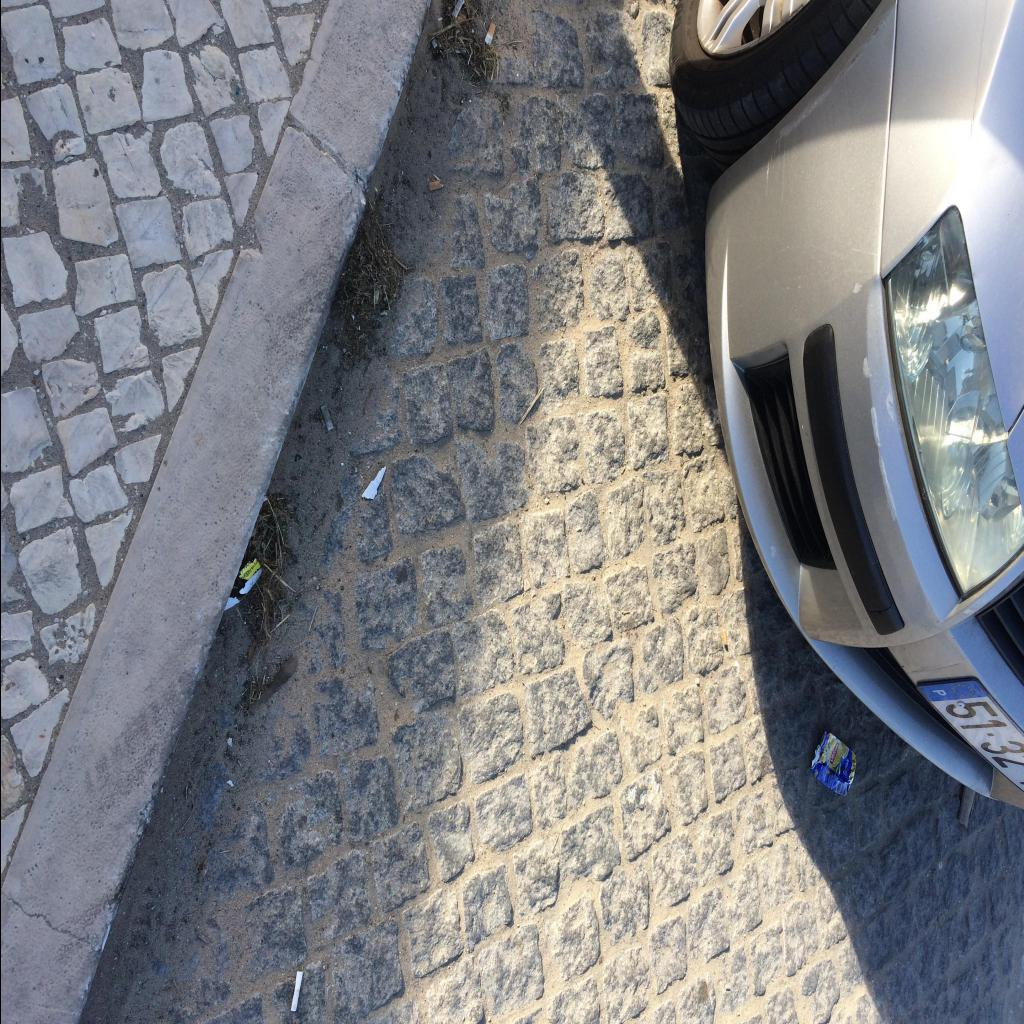Cigarette: (290, 970, 302, 1010), (320, 405, 334, 432), (484, 20, 496, 46), (450, 2, 464, 18), (427, 180, 442, 190), (720, 629, 728, 645)
Drink can: (810, 730, 855, 796)
Other plastic wrapper: (360, 466, 384, 498)
Unlabeled litter: (222, 559, 262, 611)
